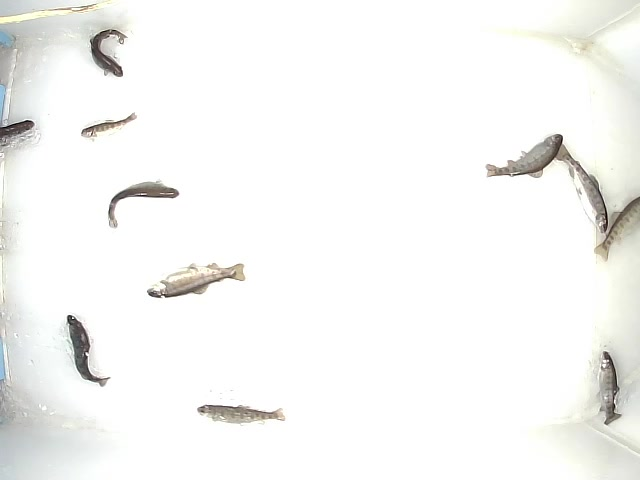fish: (554, 141, 609, 230), (143, 259, 247, 300), (483, 131, 564, 181), (62, 311, 114, 388), (106, 178, 180, 228), (197, 400, 288, 425), (86, 26, 128, 79), (597, 349, 624, 428), (78, 108, 138, 138)
